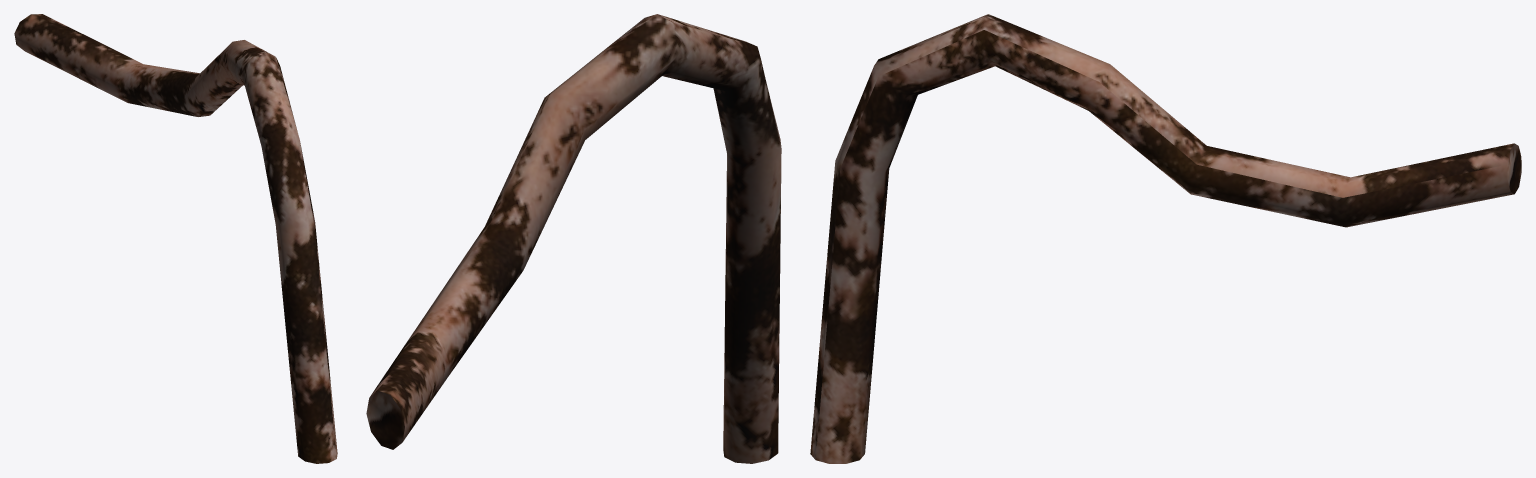
The model's file is prop_traffic_light_placa3.glb.
3 renders of one model, left to right at view 1: azimuth 30°, elevation 25°; view 2: azimuth 150°, elevation 25°; view 3: azimuth 270°, elevation 25°, orthographic. The views are drawn at different scales.
Parts seen in each view (by area): view 1: prop_traffic_light_placa3_mesh; view 2: prop_traffic_light_placa3_mesh; view 3: prop_traffic_light_placa3_mesh.
Boxes of the visible parts, x1=… form: prop_traffic_light_placa3_mesh: x1=14, y1=14, x2=337, y2=463; prop_traffic_light_placa3_mesh: x1=366, y1=14, x2=781, y2=463; prop_traffic_light_placa3_mesh: x1=810, y1=14, x2=1521, y2=463.
Bounding box in the file's own units: 0.3671 × 1.6 × 2.34.
1 material, 1 textured.
